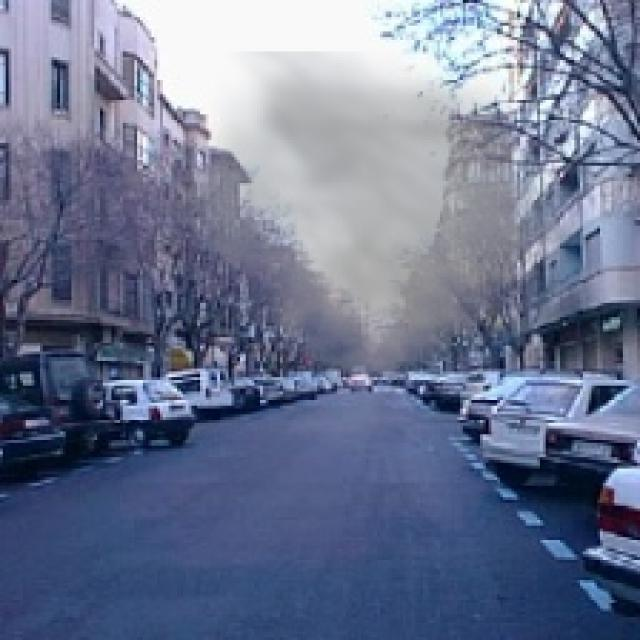smoke: (160, 51, 586, 420)
